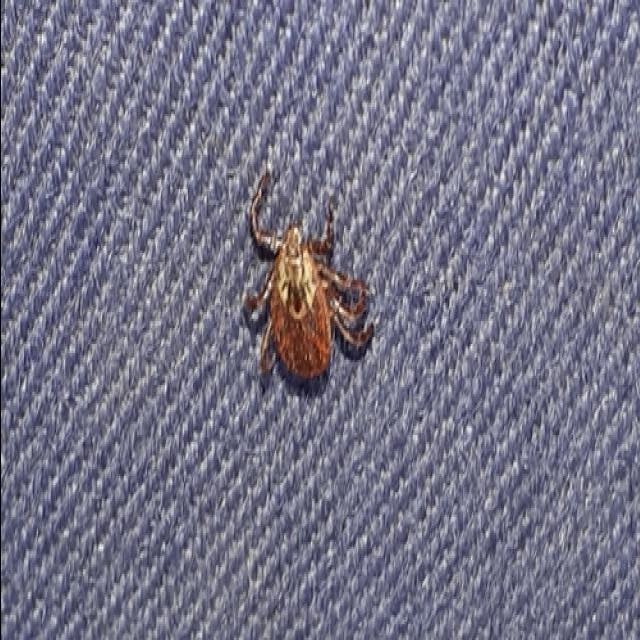Dermacentor Reticulatus-F: (244, 171, 374, 380)
